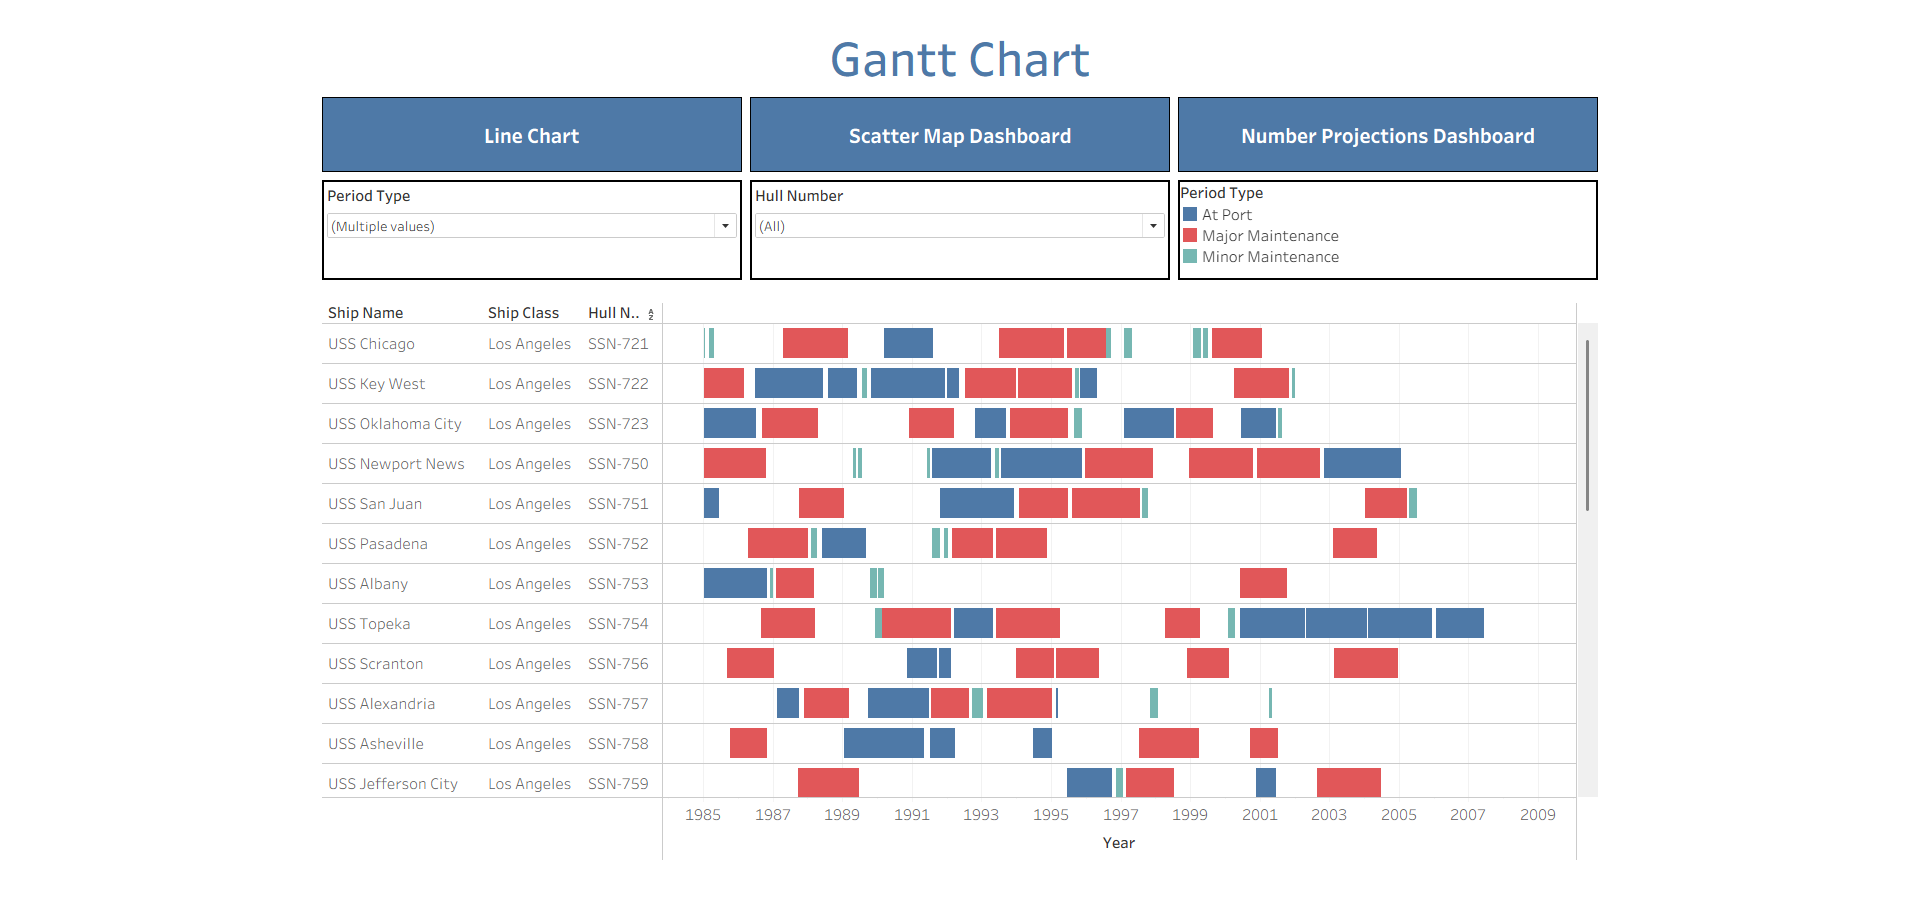

The page's visual inventory and layout, read from the dashboard file:
{"tool":"tableau","page":{"name":"Gantt Chart Dashboard","canvas":[1300,850],"ordinal":1},"visuals":[{"type":"text","box":[8,8,1284,53]},{"type":"dashboard-object","box":[8,70,428,83]},{"type":"dashboard-object","box":[436,70,428,83]},{"type":"dashboard-object","box":[864,70,428,83]},{"type":"worksheet","title":"Gantt Chart","mark":"GanttBar","rows":["Ship Name","Ship Class","Hull Number"],"cols":["Start Date"],"box":[8,153,1284,575]},{"type":"filter","title":"Gantt Chart","param":"[federated.1dbesl90ko1xc2151ipvv121hvmx].[none:Period Type:nk]","box":[8,728,428,114]},{"type":"filter","title":"Gantt Chart","param":"[federated.1dbesl90ko1xc2151ipvv121hvmx].[none:Hull Number:nk]","box":[436,728,428,114]},{"type":"legend","title":"Gantt Chart","param":"[federated.1dbesl90ko1xc2151ipvv121hvmx].[none:Period Type:nk]","box":[864,728,428,114]}]}

Visuals, with their boxes on the page's 1300x850 design canvas (x1, y1, x2, y2). These are canvas units, not pixel positions in the 1918x897 screenshot, which may show the page scaled, cropped or inside an application window:
text: bbox=(8, 8, 1292, 61)
dashboard-object: bbox=(8, 70, 436, 153)
dashboard-object: bbox=(436, 70, 864, 153)
dashboard-object: bbox=(864, 70, 1292, 153)
"Gantt Chart" worksheet (GanttBar marks): bbox=(8, 153, 1292, 728)
"Gantt Chart" filter: bbox=(8, 728, 436, 842)
"Gantt Chart" filter: bbox=(436, 728, 864, 842)
"Gantt Chart" legend: bbox=(864, 728, 1292, 842)
